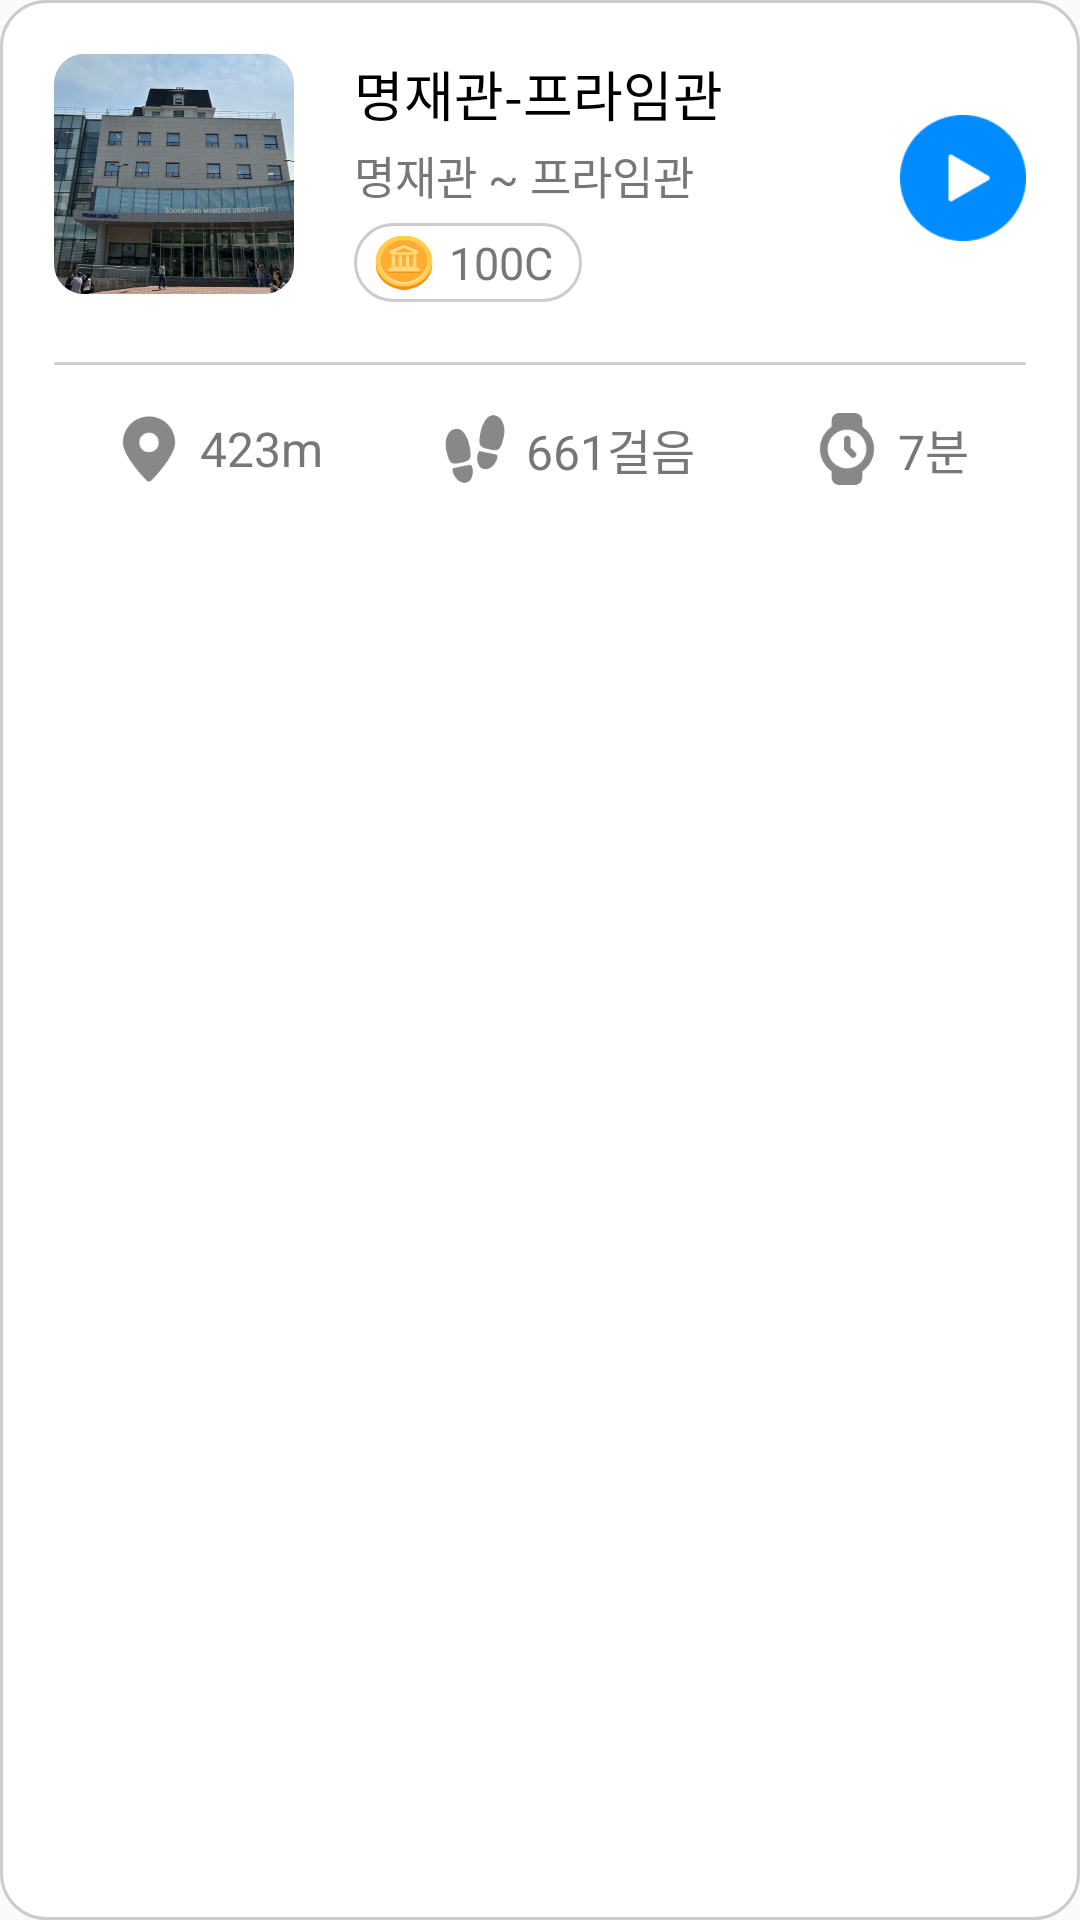

Icon click points for this 1080w x 1920h phone screenshot, format [x,y]:
coin: [404,263]
footsteps: [475,449]
marker: [149,449]
startbtn: [963,178]
watch: [847,449]
